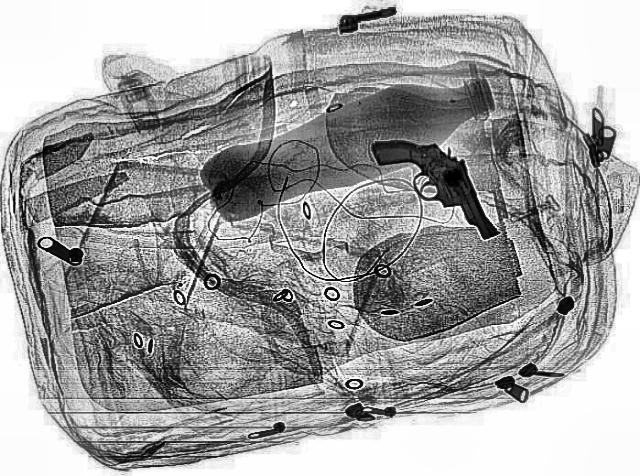Gun: (360, 116, 528, 243)
